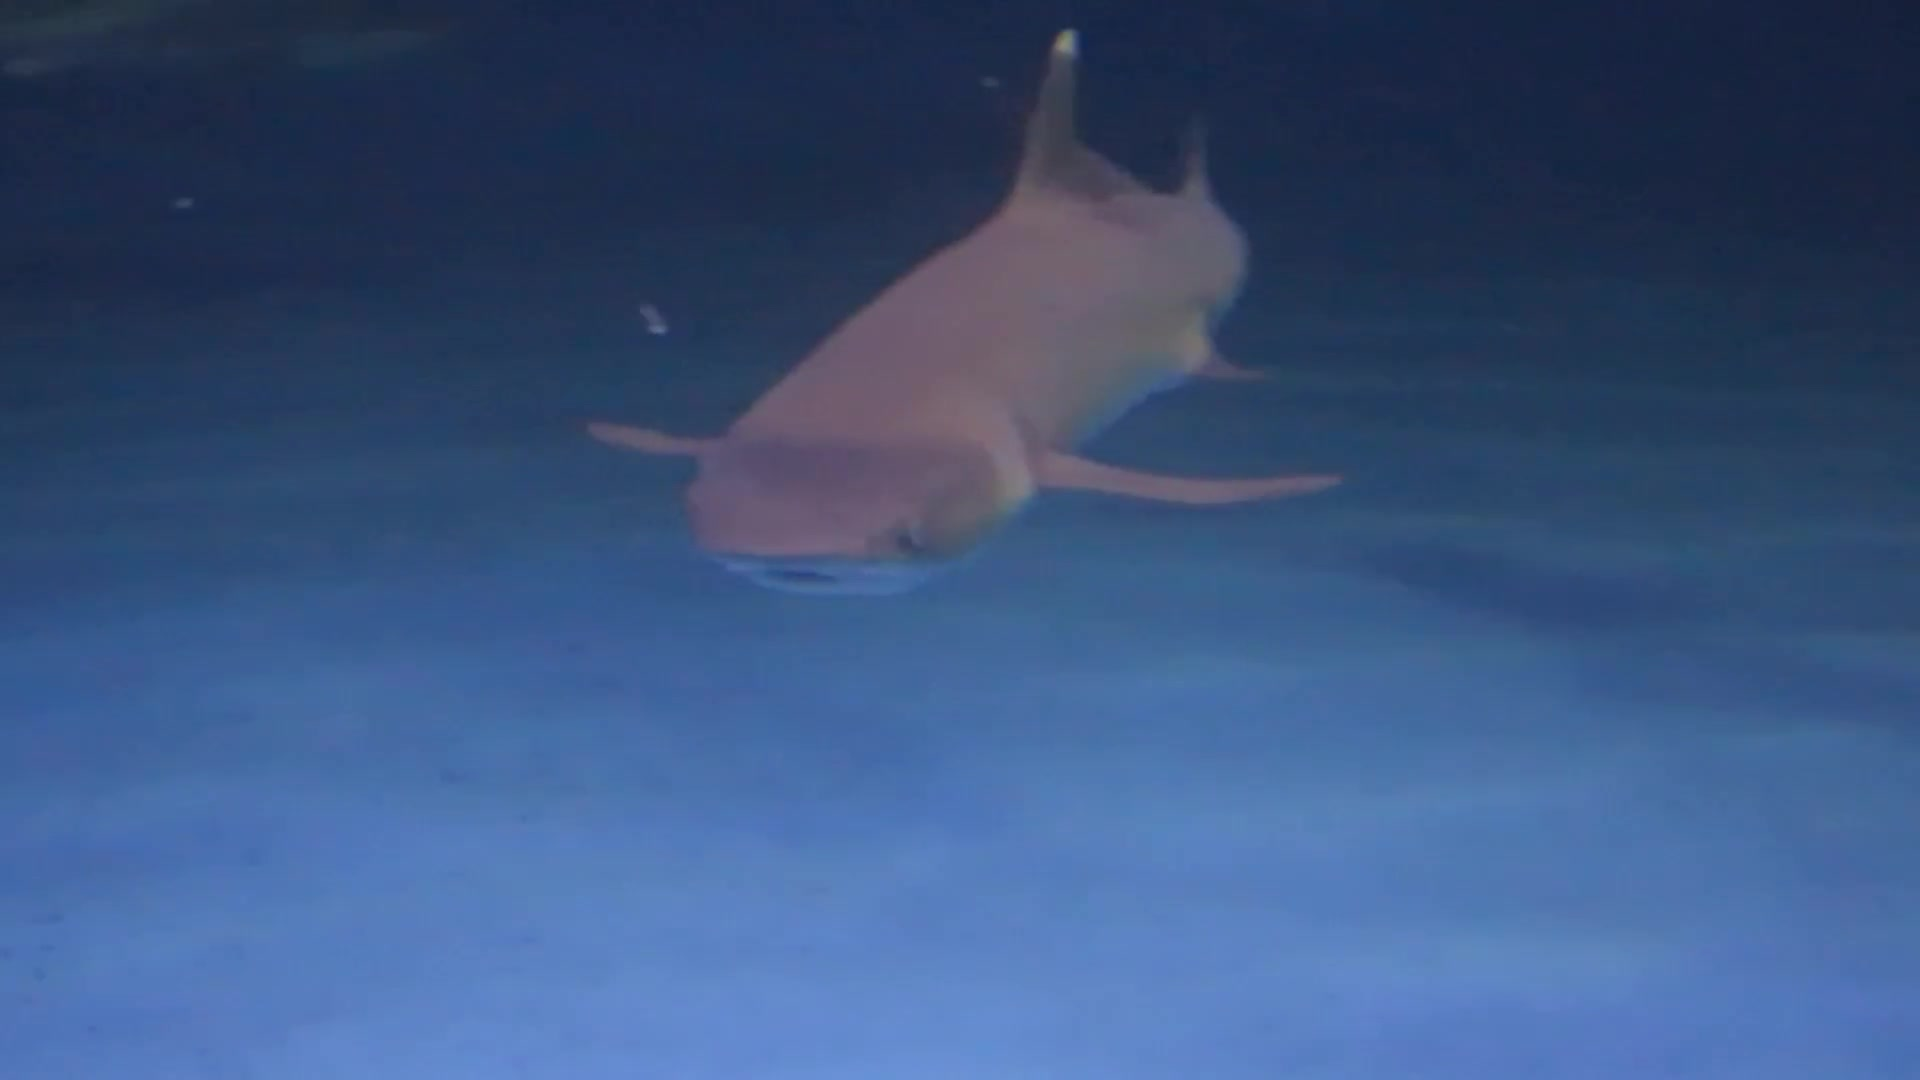Triaenodon obesus: (448, 11, 1371, 636)
